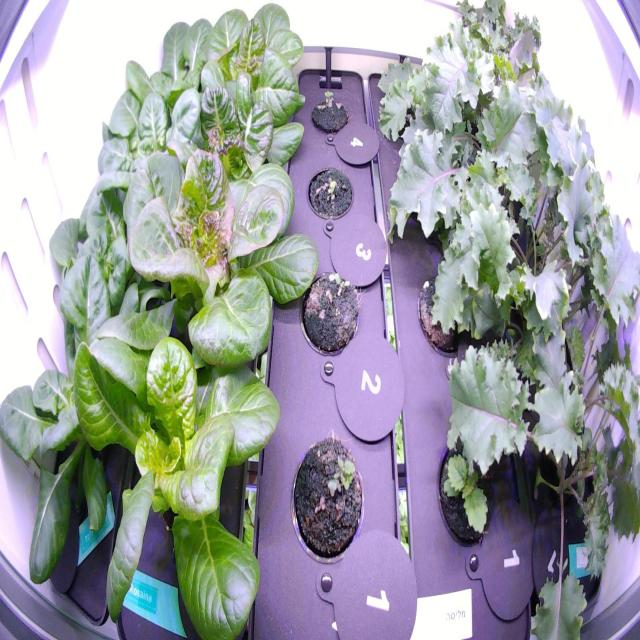germination: (286, 433, 369, 574), (295, 254, 364, 361), (306, 159, 357, 227), (307, 80, 351, 142)
young: (67, 293, 288, 637), (0, 237, 191, 601), (113, 139, 320, 379), (41, 168, 182, 373), (74, 73, 208, 236), (169, 54, 309, 200), (187, 0, 308, 127), (119, 2, 222, 136)
